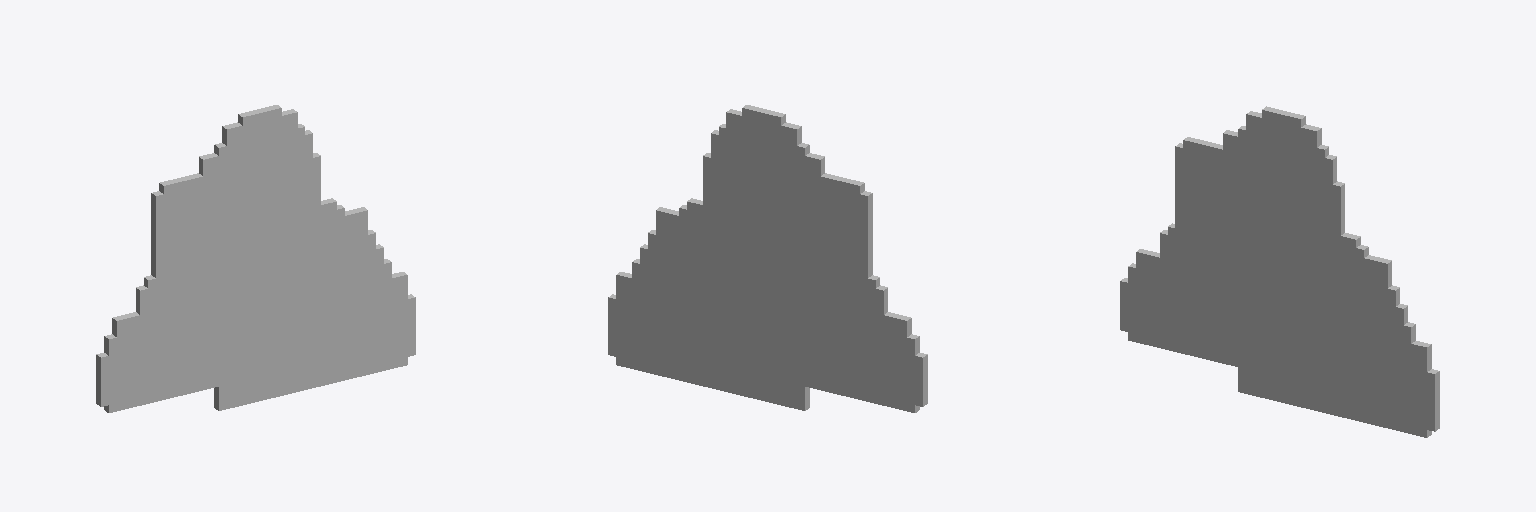
The model's file is Caillou 1-0-Caillou.obj.
3 views of the same model, side by side, from view 1: azimuth 30°, elevation 25°; view 2: azimuth 150°, elevation 25°; view 3: azimuth 330°, elevation 25° (orthographic).
Visible parts, largest first — view 1: Caillou; view 2: Caillou; view 3: Caillou.
Part boxes in pixels (left/top/right/bottom): Caillou: left=96, top=105, right=415, bottom=412; Caillou: left=608, top=105, right=927, bottom=412; Caillou: left=1120, top=106, right=1439, bottom=437.
Bounding box in the file's own units: 4 × 3.5 × 0.1.